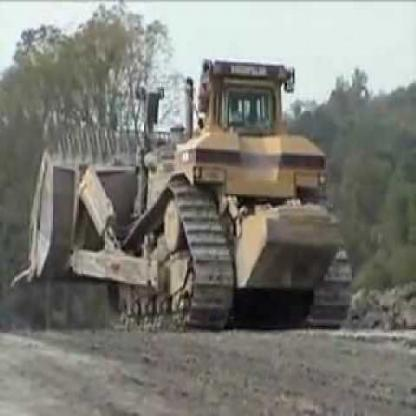bull_dozer/loader/grader: (25, 39, 362, 333)
